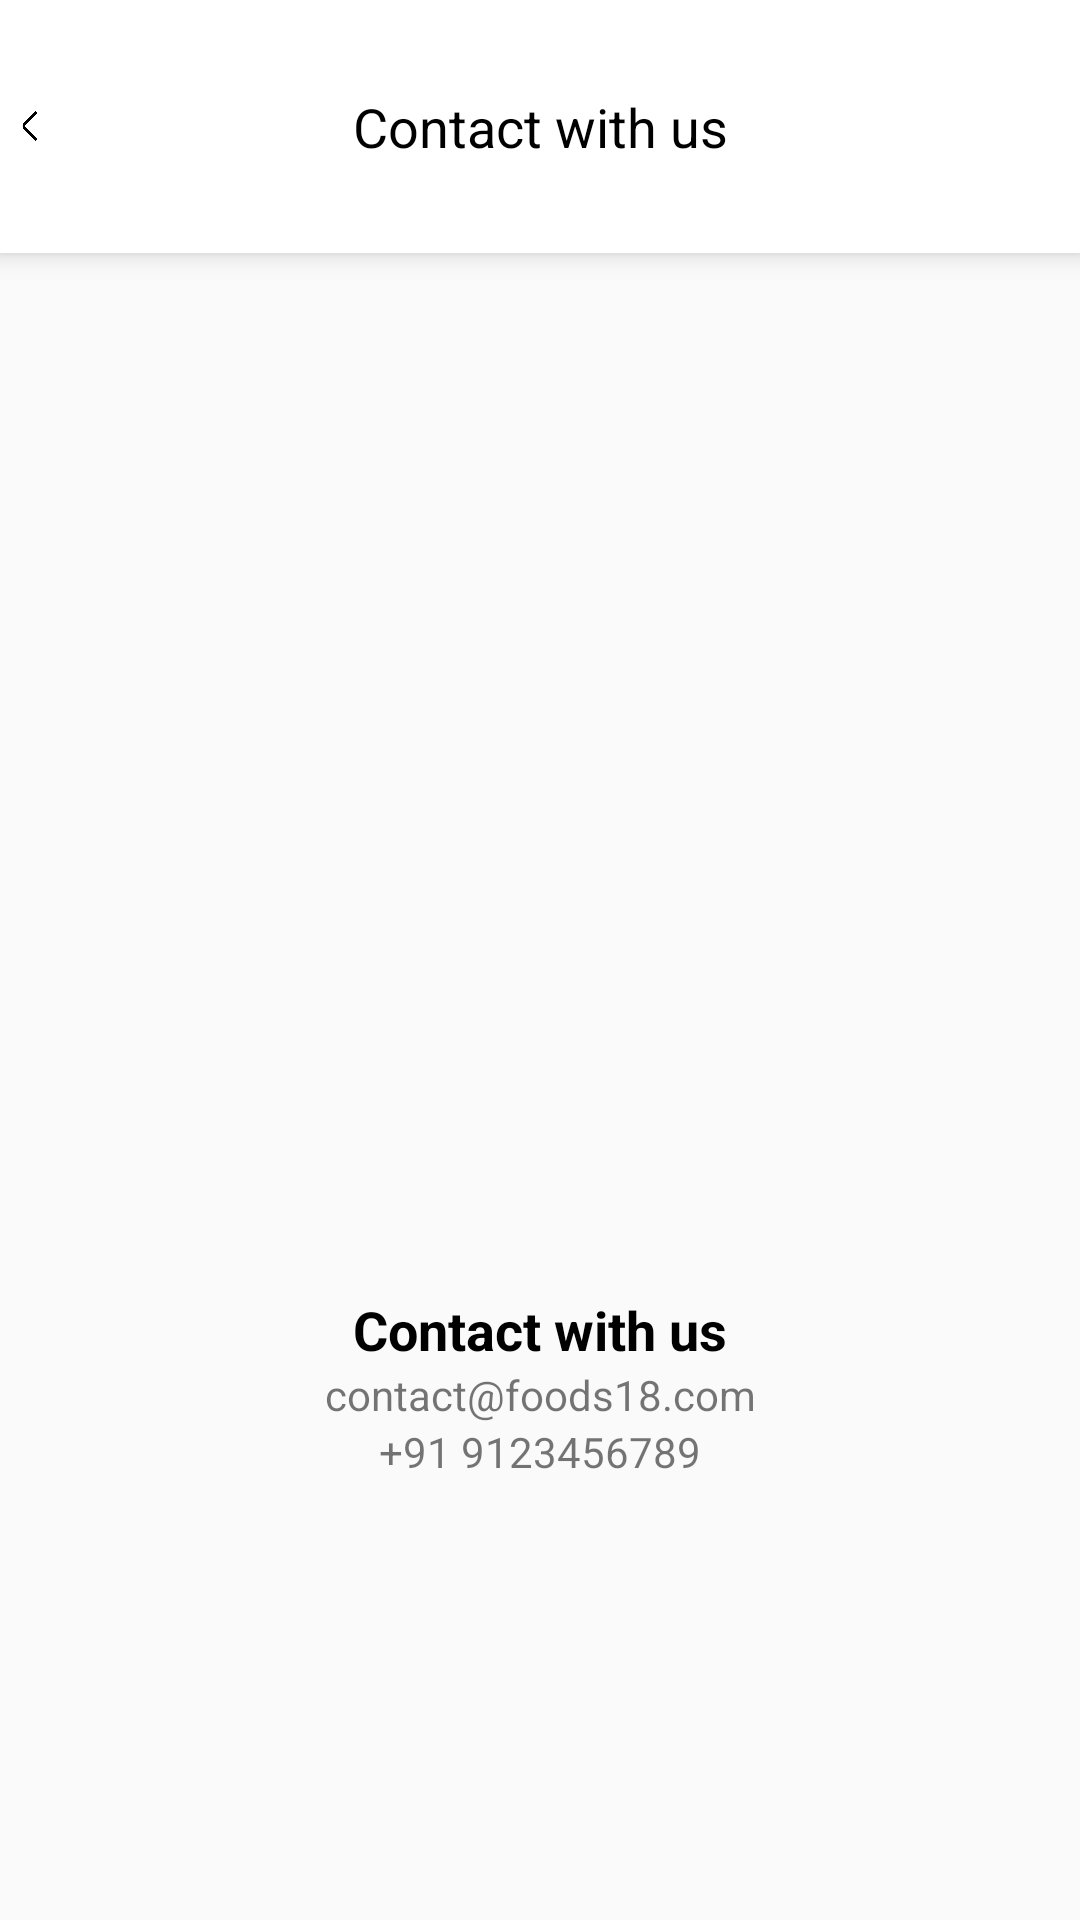

Named icons in this screenshot (1080px x 1920px) and their bounding boxes, rect(x1, y1, x2, y2):
back: rect(23, 111, 37, 141)
